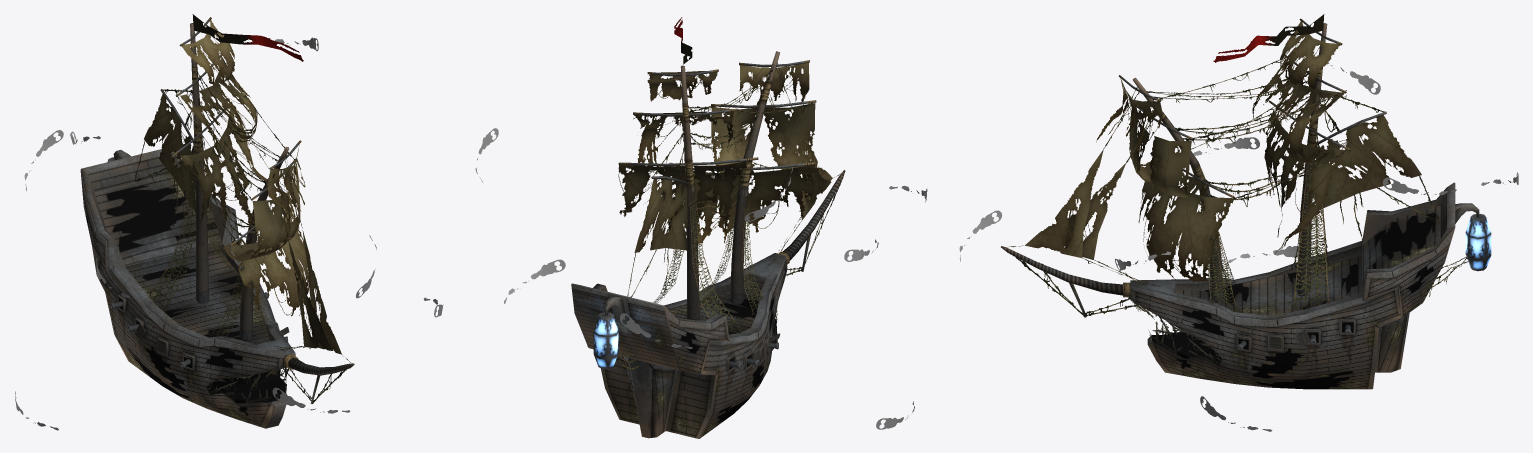
3 renders of one model, left to right at view 1: azimuth 30°, elevation 25°; view 2: azimuth 150°, elevation 25°; view 3: azimuth 270°, elevation 25°, orthographic.
Visible parts, largest first — view 1: Ship, Sails, Ghosts; view 2: Ship, Sails, Ghosts; view 3: Ship, Sails, Ghosts.
Part boxes in pixels (x1=…): Ship: x1=80, y1=17, x2=354, y2=428; Sails: x1=134, y1=14, x2=351, y2=403; Ghosts: x1=15, y1=37, x2=443, y2=430; Ship: x1=571, y1=51, x2=845, y2=438; Sails: x1=617, y1=17, x2=842, y2=376; Ghosts: x1=475, y1=128, x2=927, y2=429; Ship: x1=1001, y1=18, x2=1491, y2=389; Sails: x1=1005, y1=14, x2=1468, y2=364; Ghosts: x1=959, y1=61, x2=1518, y2=431.
Bounding box in the file's own units: 1361 × 1131 × 1622.
2 materials, 2 textured.
